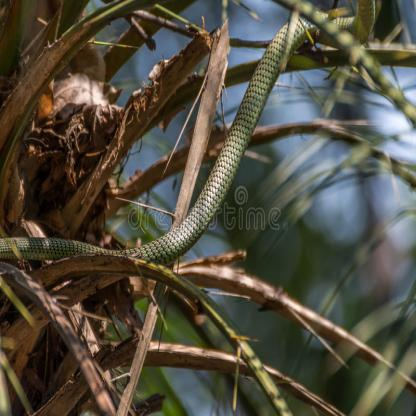Snake: (5, 205, 198, 280)
